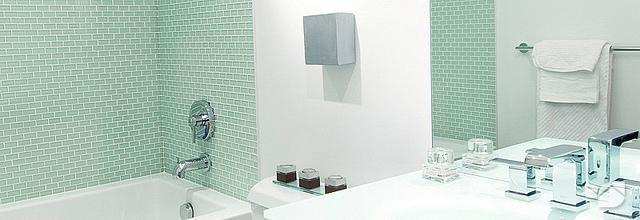Lavamanos: (275, 151, 639, 219)
